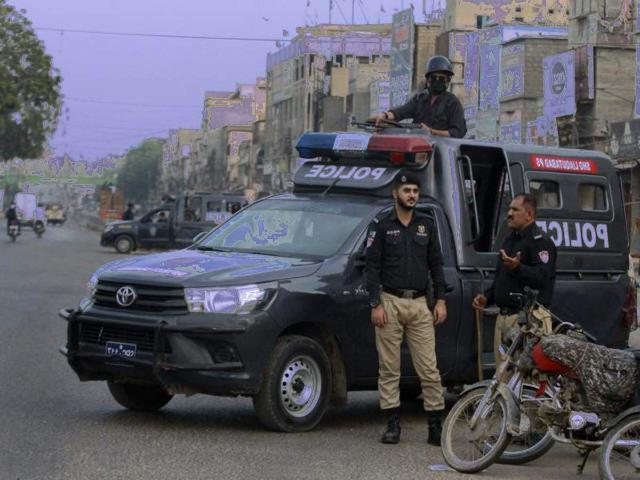police_car: (67, 132, 640, 429)
